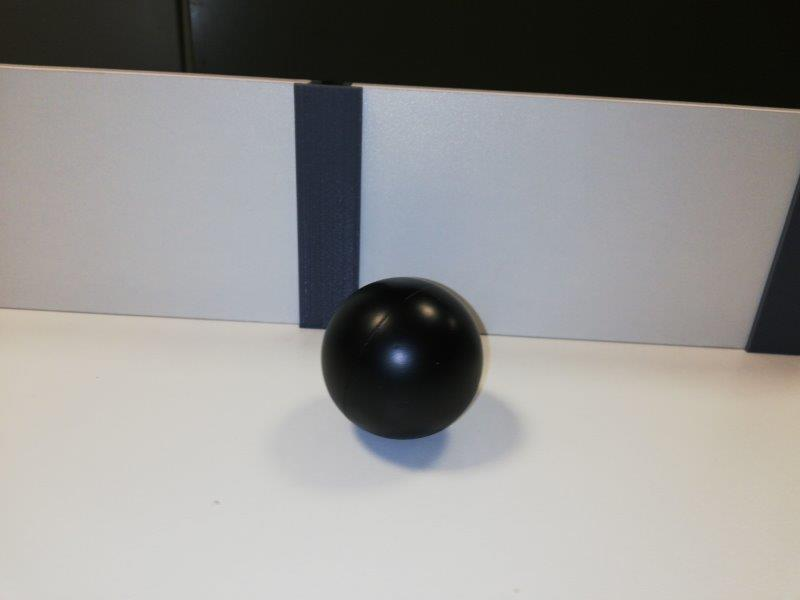nera: (320, 272, 485, 442)
